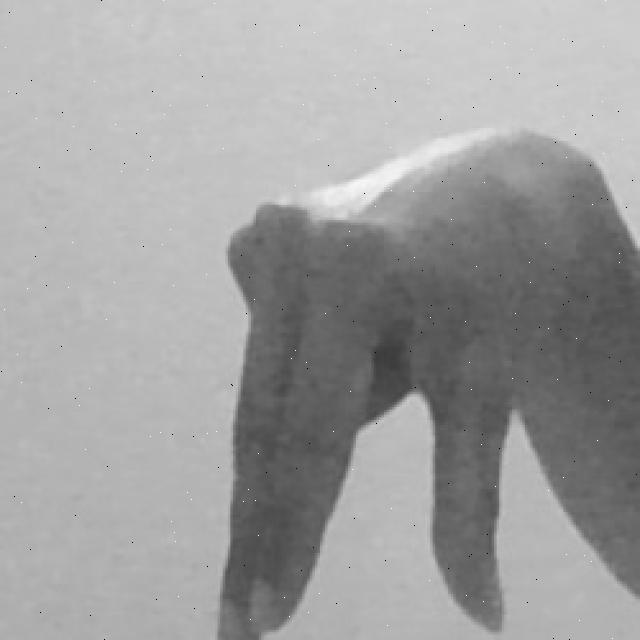Q: (205, 112, 640, 640)
